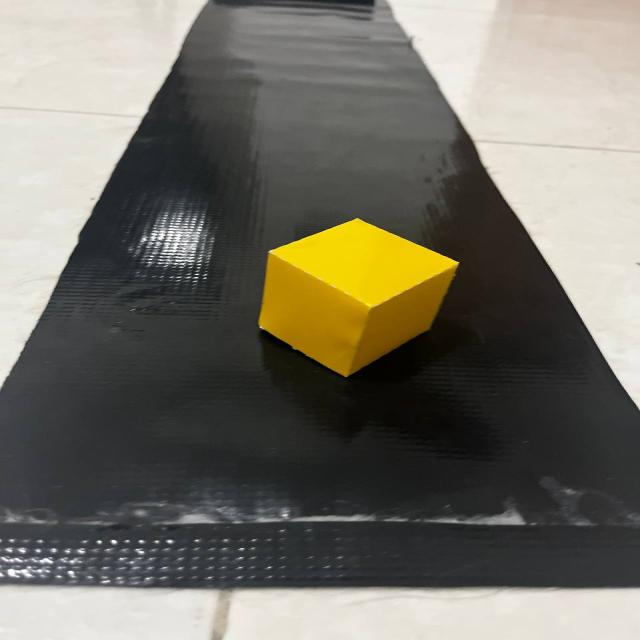Amarillo: (234, 194, 466, 400)
